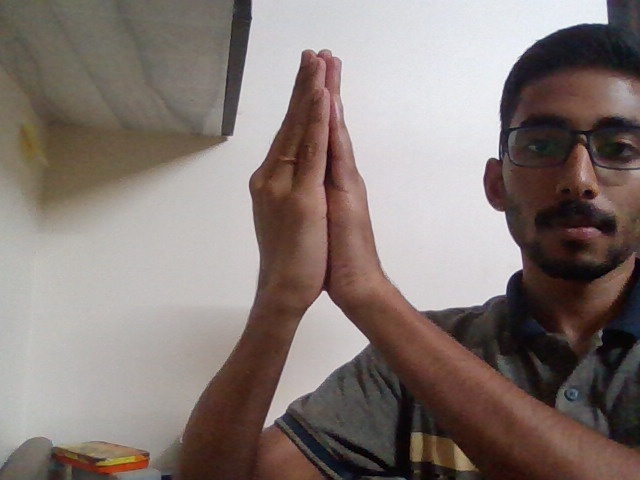Thank You: (228, 42, 420, 346)
